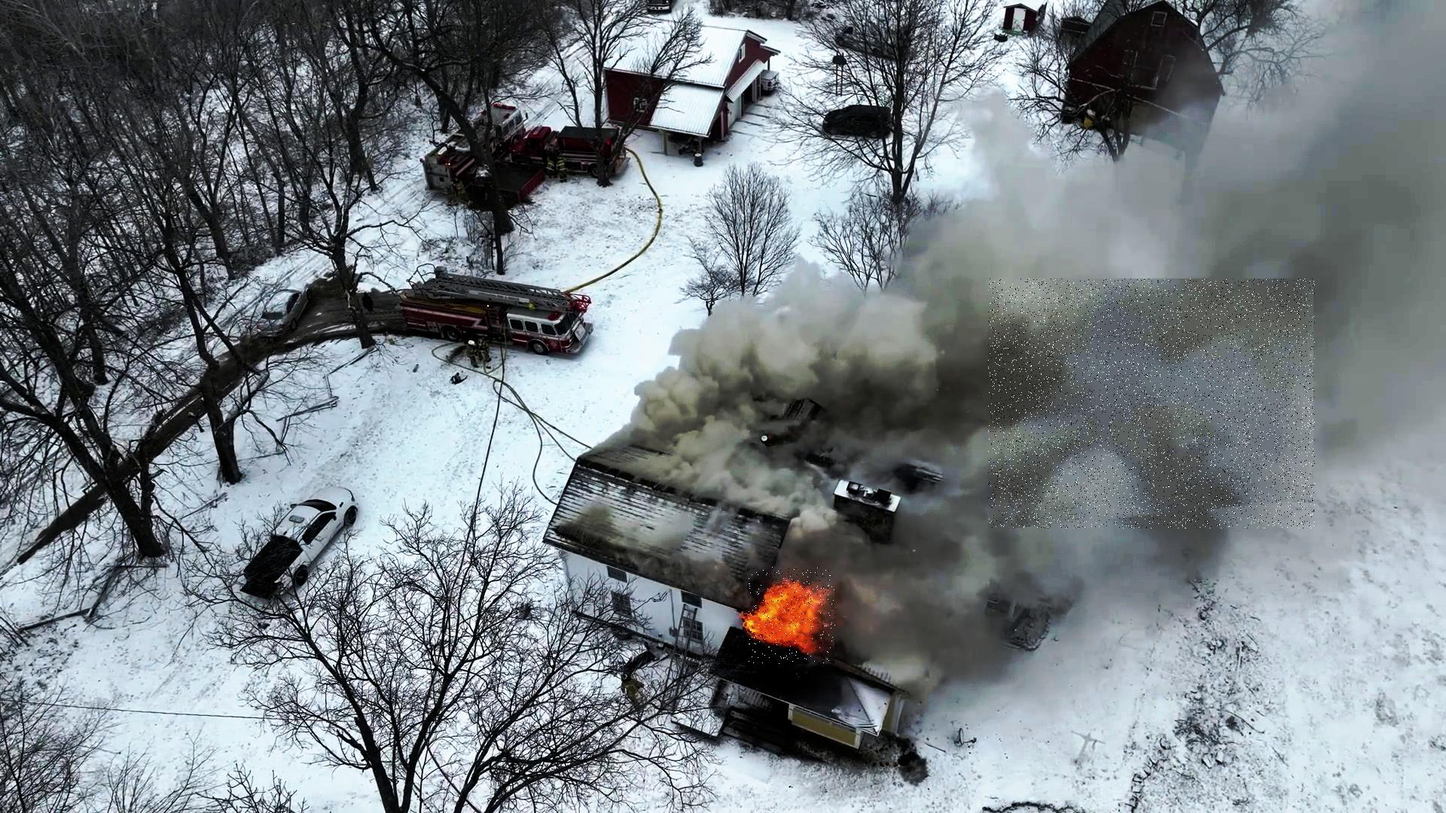fire: (748, 567, 837, 664)
smoke: (989, 279, 1316, 529)
